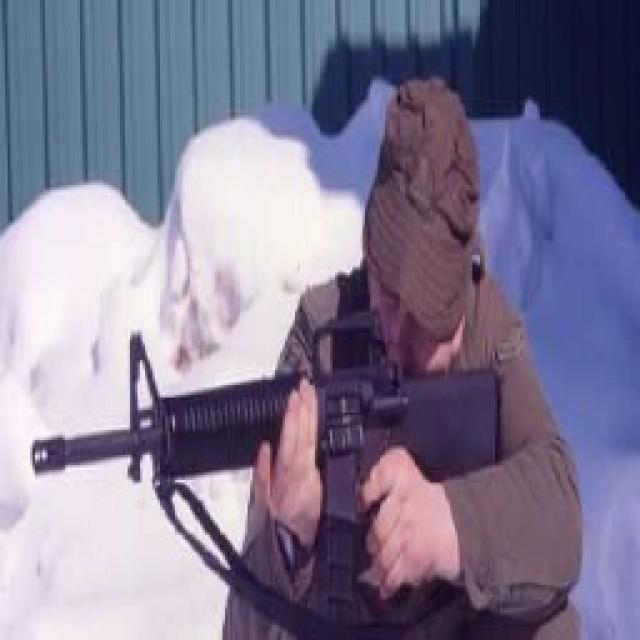long weapon: (22, 304, 366, 594)
